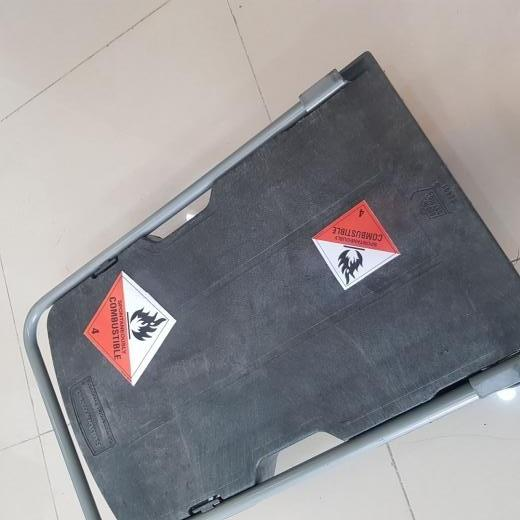spontaneously-combustible: (80, 269, 183, 386), (310, 200, 401, 292)
